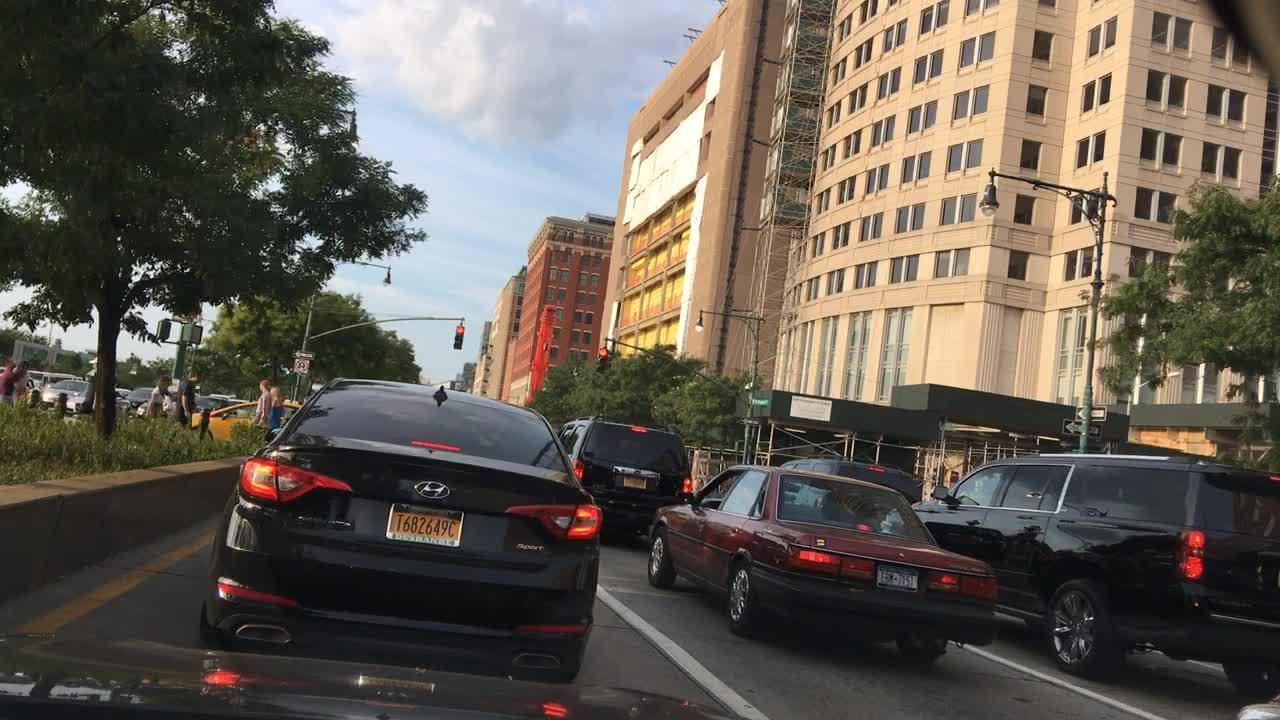Hyundai: (405, 470, 465, 512)
